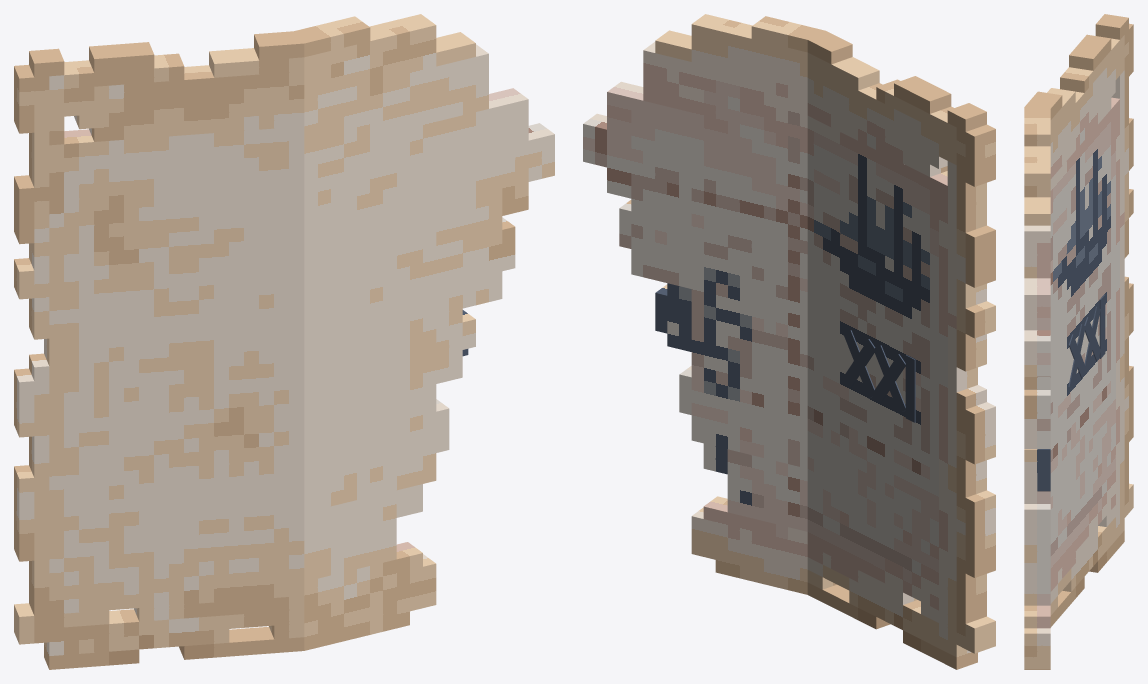
3 renders of one model, left to right at view 1: azimuth 30°, elevation 25°; view 2: azimuth 150°, elevation 25°; view 3: azimuth 270°, elevation 25°, orthographic. The views are drawn at different scales.
Visible parts, largest first — view 1: MapLeft$$(4)-Local, MapCenter$$(4)-Local; view 2: MapLeft$$(4)-Local, MapCenter$$(4)-Local, I-Local, V01$$(1)-Local, V01-Local; view 3: MapLeft$$(4)-Local, MapCenter$$(4)-Local, I-Local, V01-Local, V01$$(1)-Local, V02-Local, V02$$(1)-Local.
Boxes of the visible parts, left/top/right/bottom form: MapLeft$$(4)-Local: left=14, top=31, right=304, bottom=669; MapCenter$$(4)-Local: left=294, top=14, right=554, bottom=650; MapLeft$$(4)-Local: left=805, top=31, right=995, bottom=669; MapCenter$$(4)-Local: left=583, top=14, right=825, bottom=594; I-Local: left=905, top=355, right=915, bottom=422; V01$$(1)-Local: left=873, top=345, right=905, bottom=413; V01-Local: left=843, top=330, right=875, bottom=398; MapLeft$$(4)-Local: left=1025, top=14, right=1133, bottom=627; MapCenter$$(4)-Local: left=1024, top=107, right=1050, bottom=669; I-Local: left=1099, top=294, right=1105, bottom=358; V01-Local: left=1068, top=334, right=1085, bottom=378; V01$$(1)-Local: left=1084, top=317, right=1100, bottom=361; V02-Local: left=1068, top=324, right=1085, bottom=389; V02$$(1)-Local: left=1084, top=306, right=1100, bottom=372.
Bounding box in the file's own units: 36.85 × 44 × 8.38.
Materials: 7 (7 with a texture image).
